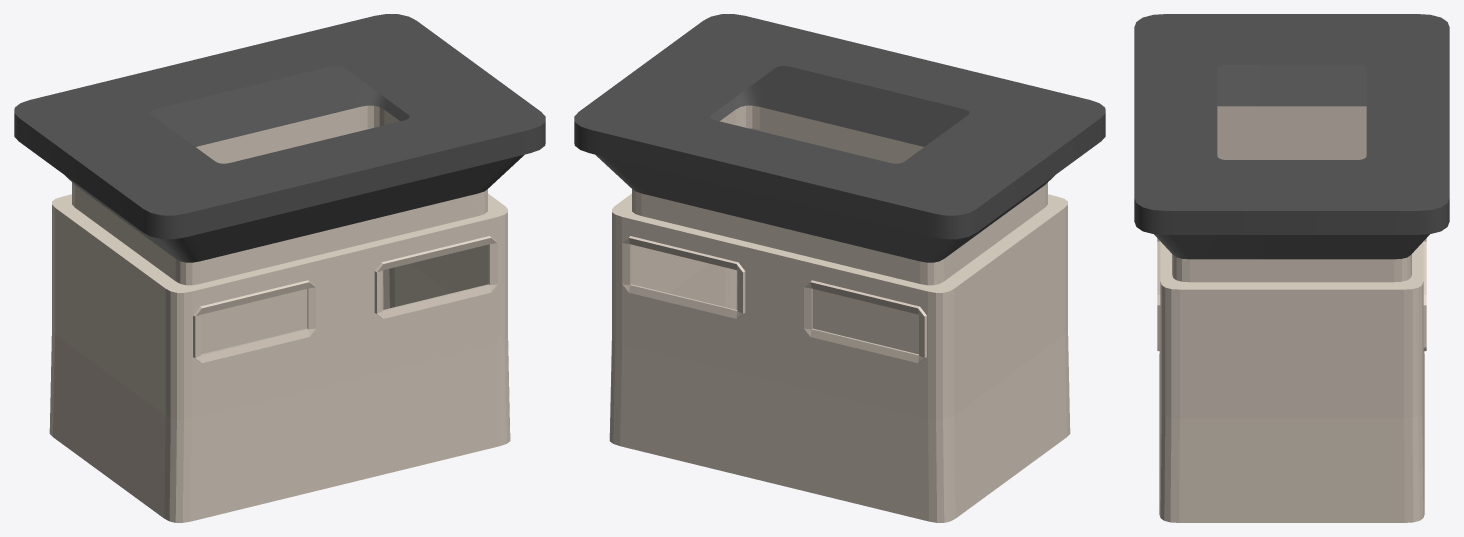
Rendered from bld_stackable_01.fbx.
3 renders of one model, left to right at view 1: azimuth 30°, elevation 25°; view 2: azimuth 150°, elevation 25°; view 3: azimuth 270°, elevation 25°, orthographic.
Visible parts, largest first — view 1: bld_stackable_01; view 2: bld_stackable_01; view 3: bld_stackable_01.
Boxes of the visible parts, left/top/right/bottom form: bld_stackable_01: left=14, top=14, right=545, bottom=522; bld_stackable_01: left=574, top=14, right=1105, bottom=522; bld_stackable_01: left=1134, top=14, right=1449, bottom=522.
Size of the model in its own units: 386 by 298 by 261.
